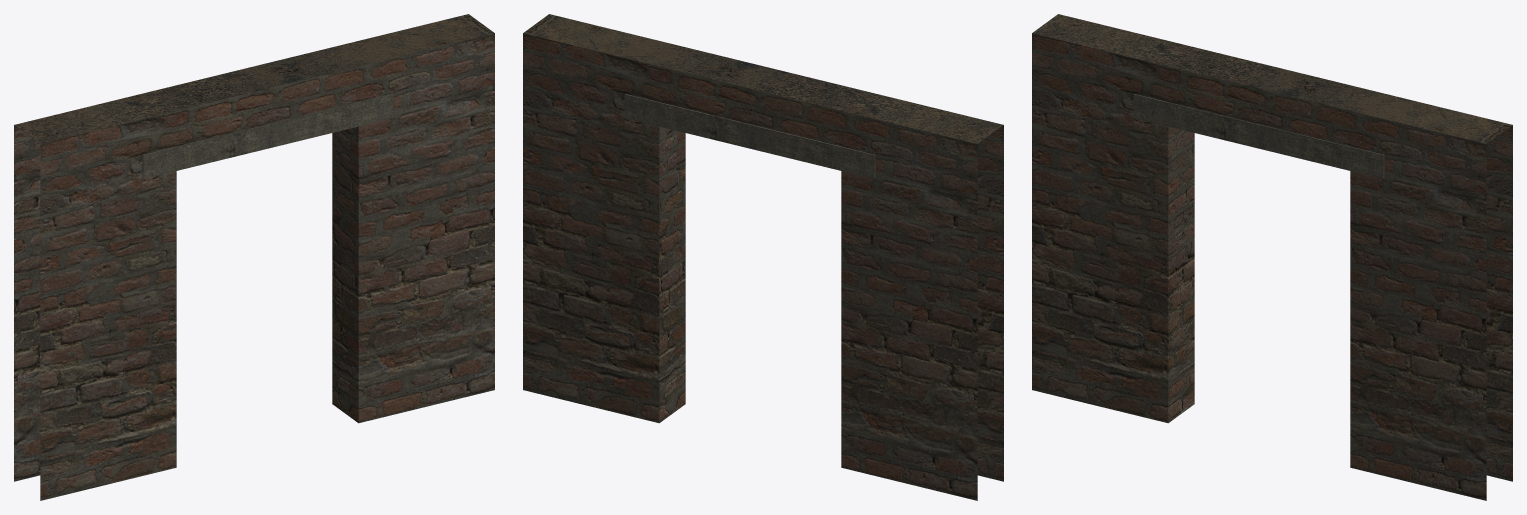
File: doorway_hr_2_wide.obj
3 renders of one model, left to right at view 1: azimuth 30°, elevation 25°; view 2: azimuth 150°, elevation 25°; view 3: azimuth 330°, elevation 25°, orthographic.
Parts seen in each view (by area): view 1: doorway_hr_2_wide; view 2: doorway_hr_2_wide; view 3: doorway_hr_2_wide.
Part boxes in pixels (x1=…): doorway_hr_2_wide: x1=14, y1=14, x2=494, y2=500; doorway_hr_2_wide: x1=523, y1=14, x2=1003, y2=500; doorway_hr_2_wide: x1=1032, y1=14, x2=1512, y2=500.
Size of the model in its own units: 4 by 3 by 0.42.
